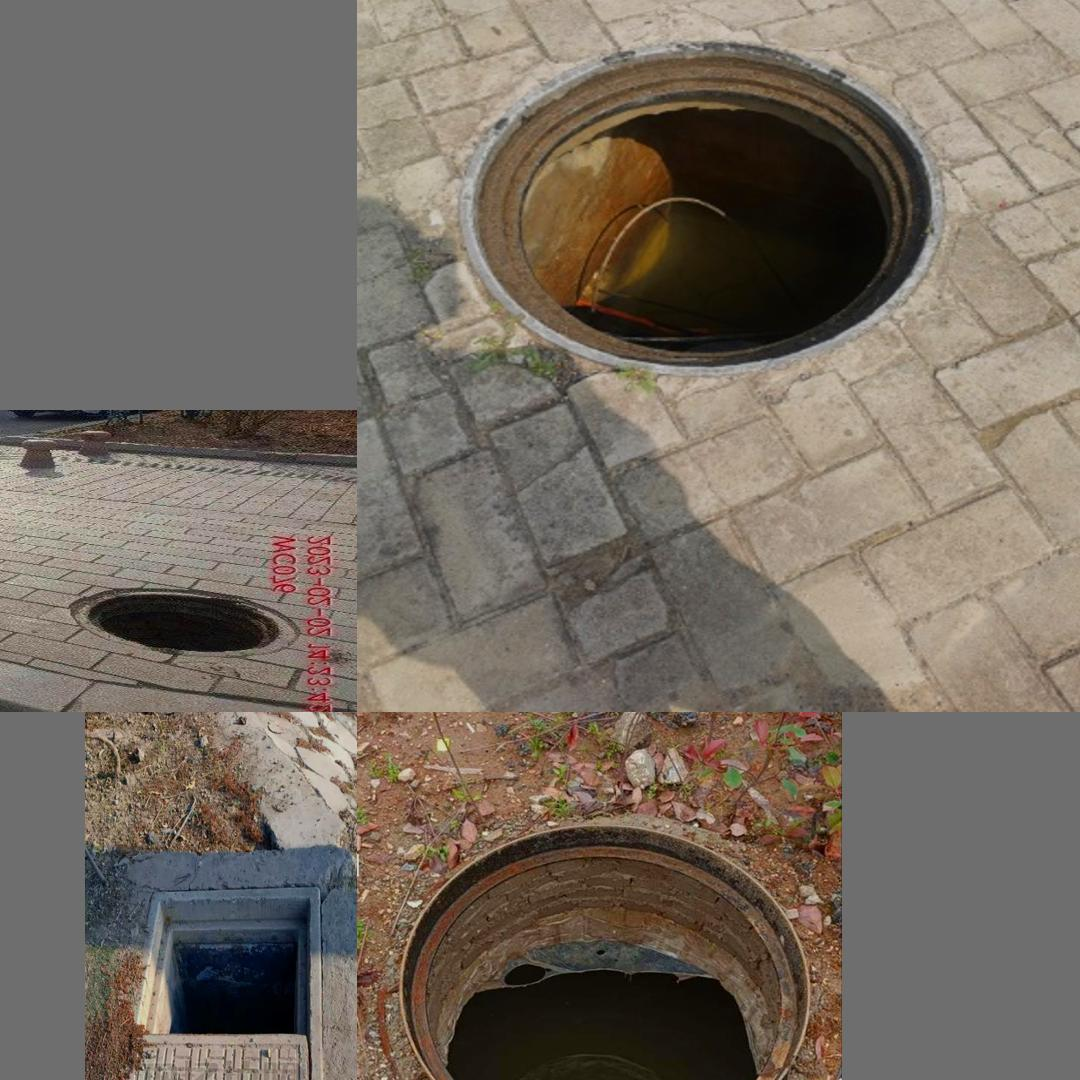lose: (440, 44, 949, 375), (390, 811, 819, 1080), (103, 886, 326, 1080), (68, 584, 297, 655)
